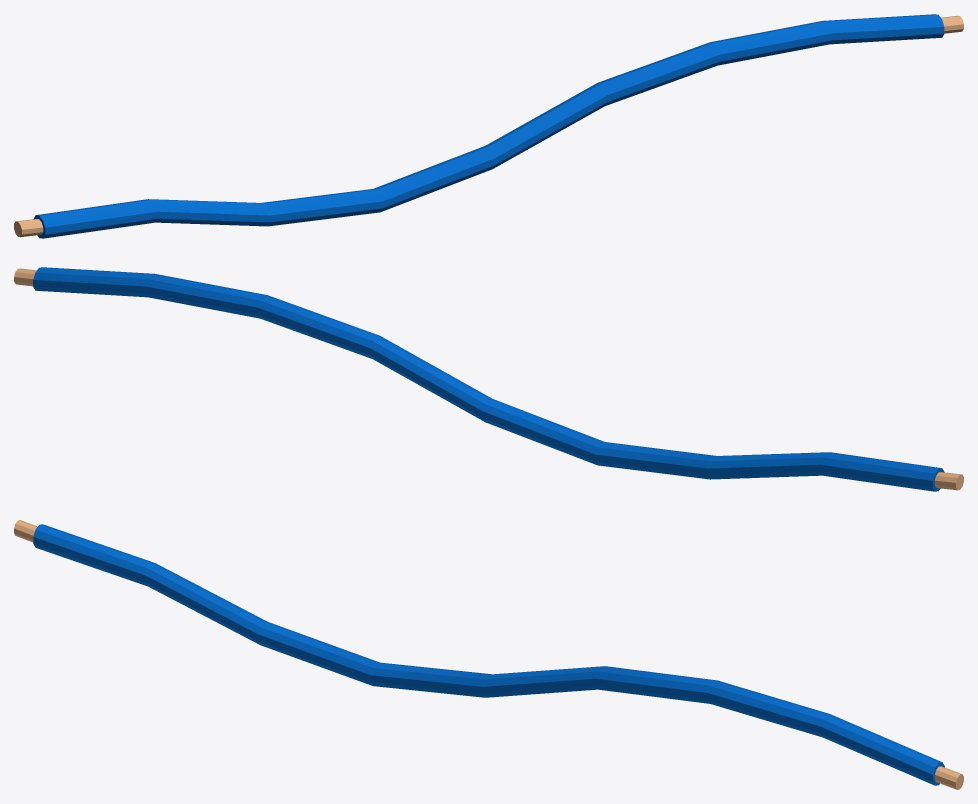
Rendered from Wire_2_Blue.fbx.
3 views of the same model, one above another, from view 1: azimuth 30°, elevation 25°; view 2: azimuth 150°, elevation 25°; view 3: azimuth 330°, elevation 25° (orthographic).
Parts seen in each view (by area): view 1: polySurface231; view 2: polySurface231; view 3: polySurface231.
Part boxes in pixels (left/top/right/bottom): polySurface231: left=14, top=14, right=963, bottom=238; polySurface231: left=14, top=267, right=963, bottom=491; polySurface231: left=14, top=520, right=963, bottom=789.
Size of the model in its own units: 1.42 by 0.1254 by 0.0308.
